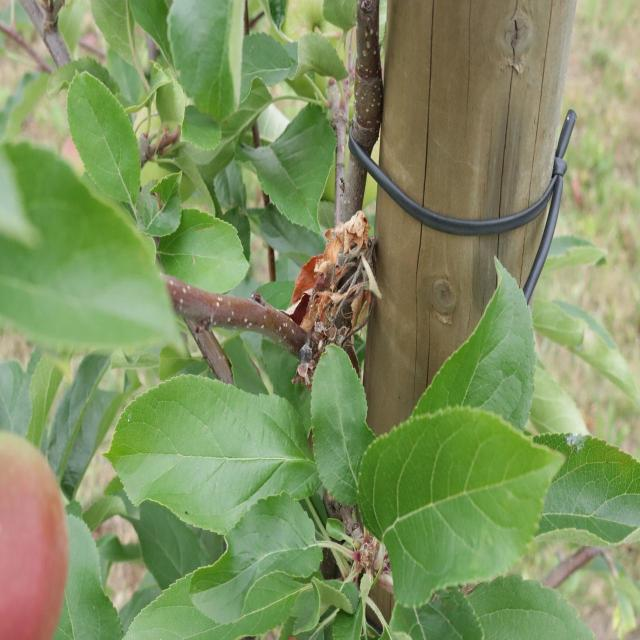-FireBlight-: (281, 224, 374, 360)
